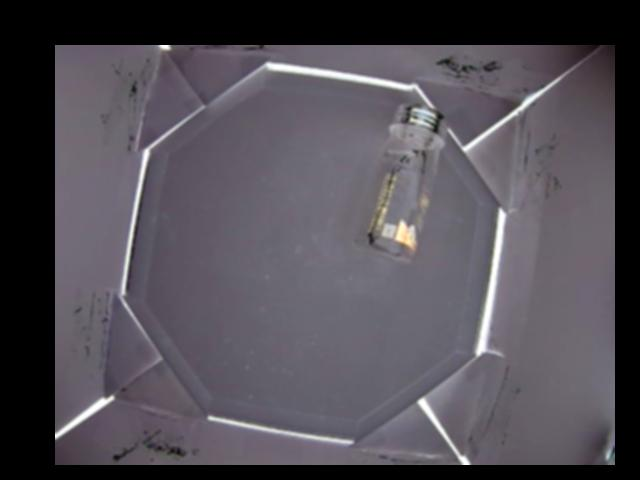Bottle: (355, 104, 446, 261)
